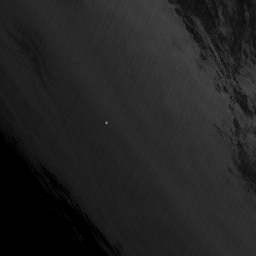Target: (103, 120, 109, 126)
